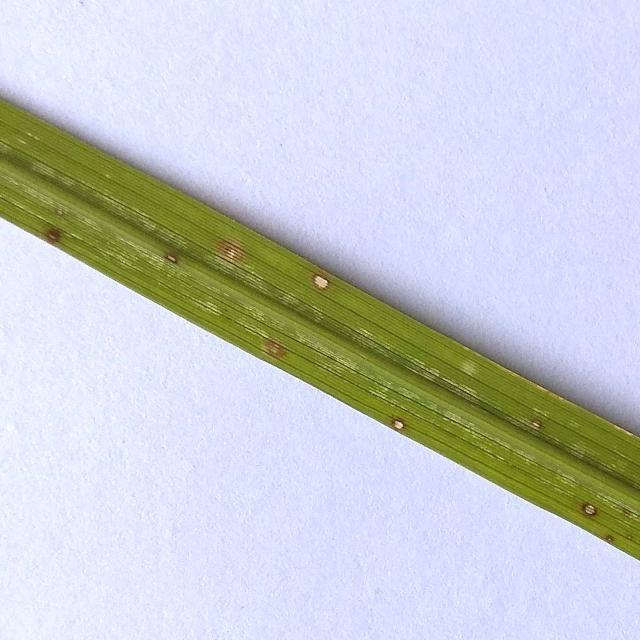Blast: (212, 242, 256, 260), (263, 332, 290, 360), (576, 498, 604, 520), (40, 221, 59, 245), (158, 249, 183, 267), (312, 274, 329, 293), (528, 414, 548, 430), (389, 417, 408, 430)
